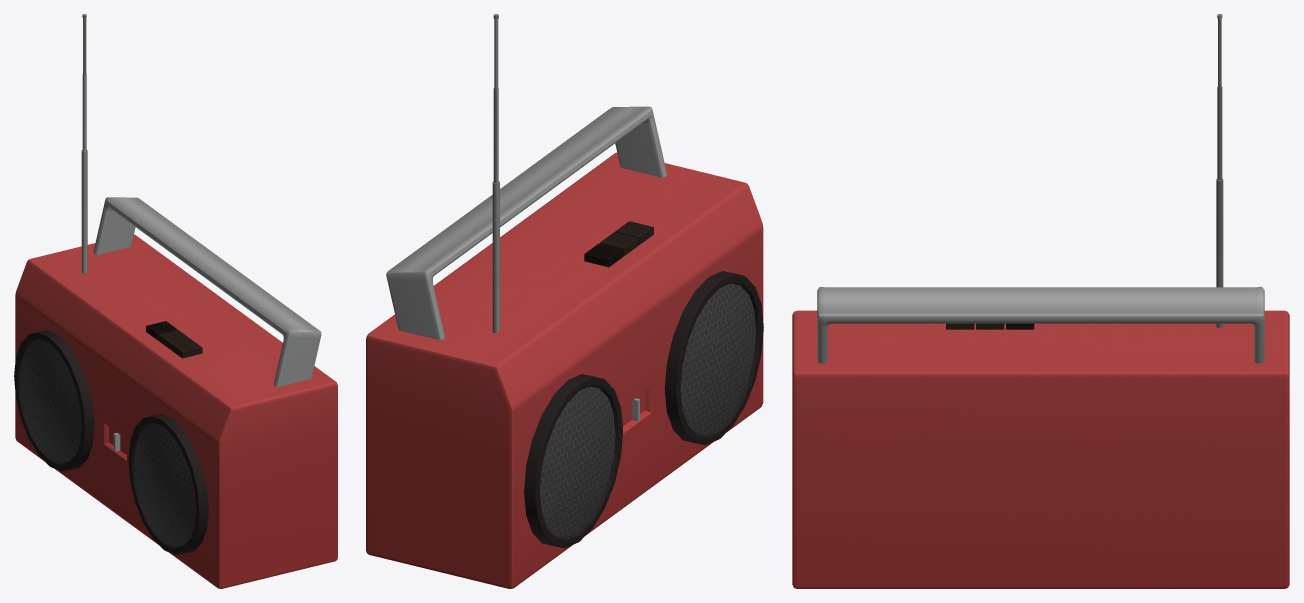
The model's file is Radio_80s_v1.fbx.
3 views of the same model, side by side, from view 1: azimuth 30°, elevation 25°; view 2: azimuth 150°, elevation 25°; view 3: azimuth 270°, elevation 25° (orthographic). The views are drawn at different scales.
Visible parts, largest first — view 1: polySurface10, polySurface6, polySurface2, polySurface1, polySurface9, polySurface4, polySurface5, polySurface11; view 2: polySurface10, polySurface6, polySurface2, polySurface1, polySurface4, polySurface9, polySurface5, M_RadioButton_TopLeft; view 3: polySurface10, polySurface6, polySurface5.
Part boxes in pixels (x1,y1,x2,y2): polySurface10: (15,234,337,588); polySurface6: (93,197,321,386); polySurface2: (134,424,195,546); polySurface1: (20,340,81,462); polySurface9: (14,330,94,471); polySurface4: (128,414,208,555); polySurface5: (81,14,87,273); polySurface11: (170,339,202,358); polySurface10: (366,152,763,588); polySurface6: (386,106,667,339); polySurface2: (680,283,755,434); polySurface1: (539,386,615,537); polySurface4: (664,271,763,445); polySurface9: (524,374,622,548); polySurface5: (492,14,499,333); M_RadioButton_TopLeft: (584,243,623,267); polySurface10: (792,310,1289,588); polySurface6: (817,286,1264,363); polySurface5: (1216,14,1223,328).
Size of the model in its own units: 6.62 by 20.67 by 17.61.
